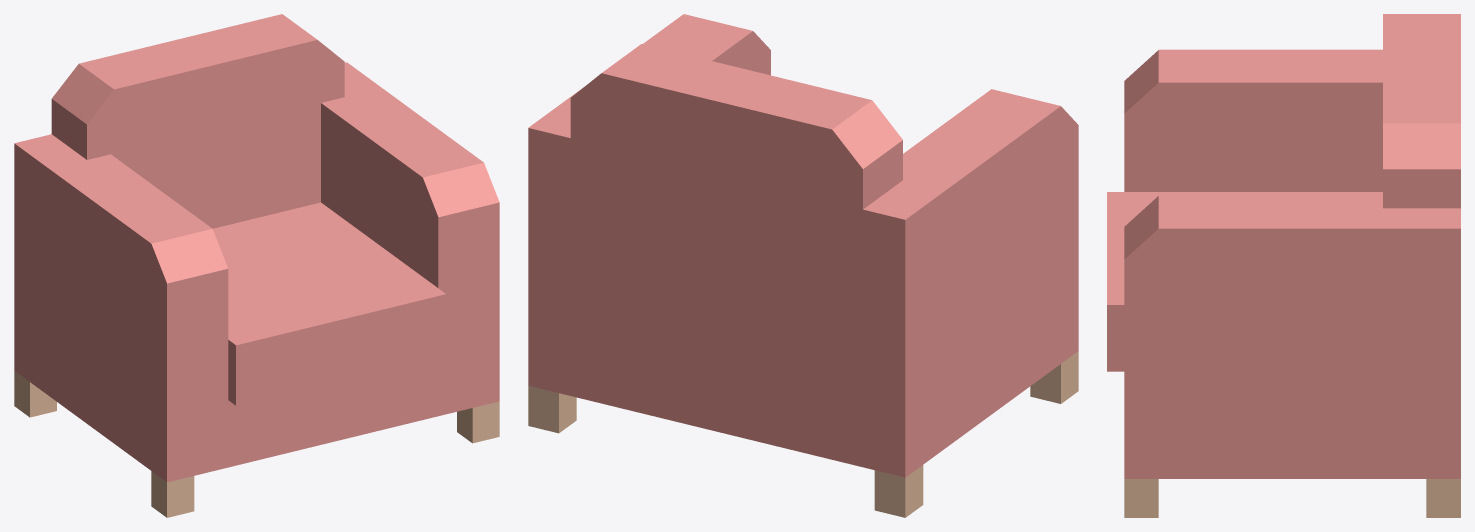
Rendered from lounge_chair.fbx.
The picture shows the model from 3 angles, left to right: view 1: azimuth 30°, elevation 25°; view 2: azimuth 150°, elevation 25°; view 3: azimuth 270°, elevation 25°; orthographic projection. The views are drawn at different scales.
Parts seen in each view (by area): view 1: lounge_chair; view 2: lounge_chair; view 3: lounge_chair.
Boxes of the visible parts, bbox=[...] form: lounge_chair: bbox=[14, 14, 499, 517]; lounge_chair: bbox=[528, 14, 1078, 517]; lounge_chair: bbox=[1107, 14, 1460, 517].
Bounding box in the file's own units: 0.9054 × 0.85 × 0.7576.
